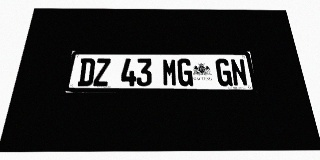3: (136, 58, 152, 86)
4: (120, 58, 137, 86)
D: (77, 58, 96, 86)
G: (215, 59, 233, 86), (177, 59, 193, 86)
M: (162, 58, 178, 86)
N: (230, 59, 248, 86)
Z: (93, 58, 111, 86)
